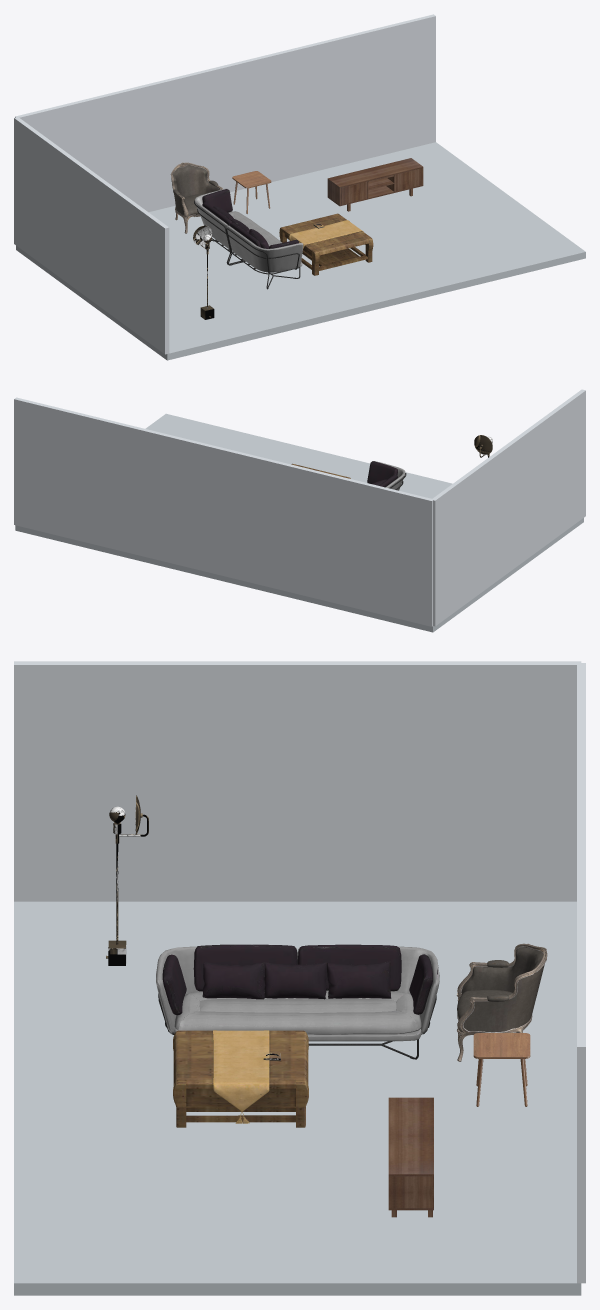
Rendered from stage3.glb.
3 renders of one model, top to bottom at view 1: azimuth 30°, elevation 25°; view 2: azimuth 150°, elevation 25°; view 3: azimuth 270°, elevation 25°, orthographic. The views are drawn at different scales.
Visible parts, largest first — view 1: wall_back, Floor, wall_left, raw_model, raw_model.001, raw_model.002, raw_model.003, raw_model.005, raw_model.004; view 2: wall_back, wall_left, Floor, raw_model, raw_model.004; view 3: Floor, wall_left, raw_model, raw_model.001, raw_model.003, wall_back, raw_model.002, raw_model.005, raw_model.004.
Boxes of the visible parts, box(x1,y1,x2,y2) form: wall_back: box(15, 14, 435, 212); Floor: box(16, 142, 585, 360); wall_left: box(14, 117, 169, 354); raw_model: box(194, 188, 303, 289); raw_model.001: box(279, 213, 373, 275); raw_model.002: box(327, 158, 423, 211); raw_model.003: box(170, 162, 222, 233); raw_model.005: box(232, 171, 271, 213); raw_model.004: box(193, 225, 214, 319); wall_back: box(14, 397, 433, 626); wall_left: box(432, 389, 585, 626); Floor: box(15, 413, 583, 632); raw_model: box(367, 461, 406, 490); raw_model.004: box(474, 435, 492, 457); Floor: box(14, 901, 581, 1295); wall_left: box(14, 661, 581, 901); raw_model: box(156, 944, 439, 1059); raw_model.001: box(173, 1030, 308, 1127); raw_model.003: box(456, 943, 547, 1061); wall_back: box(577, 663, 585, 1283); raw_model.002: box(388, 1097, 433, 1217); raw_model.005: box(473, 1033, 530, 1106); raw_model.004: box(106, 795, 148, 965).
Bounding box in the file's own units: 8.04 × 2.42 × 5.04.
Materials: 8 (6 with a texture image).
